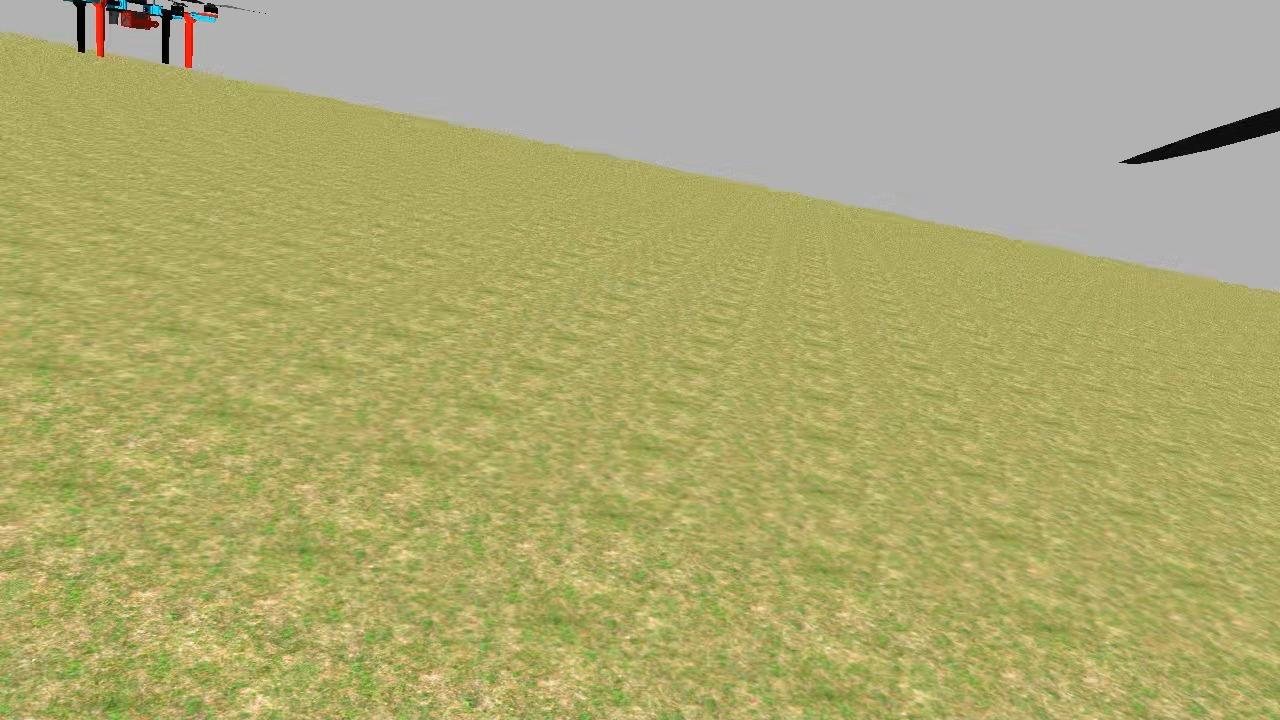UAV: (60, 0, 228, 74)
